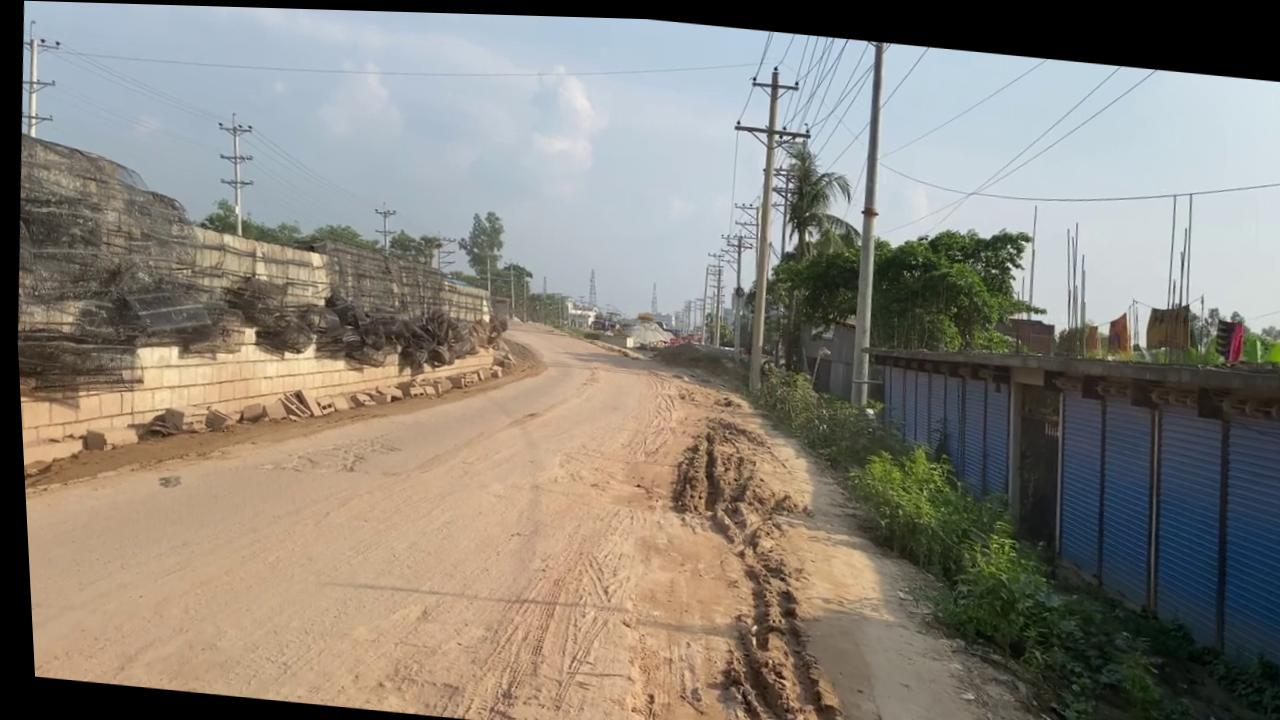Muddy road: (11, 267, 1114, 720)
Pole: (711, 56, 824, 392), (829, 33, 898, 405)
Rickshaw: (638, 365, 1088, 720)
Traffic-sign: (743, 129, 869, 373), (449, 203, 505, 292)
Tree: (561, 296, 603, 328), (582, 302, 620, 330), (581, 302, 604, 328)
Upstairs: (5, 130, 523, 504)
